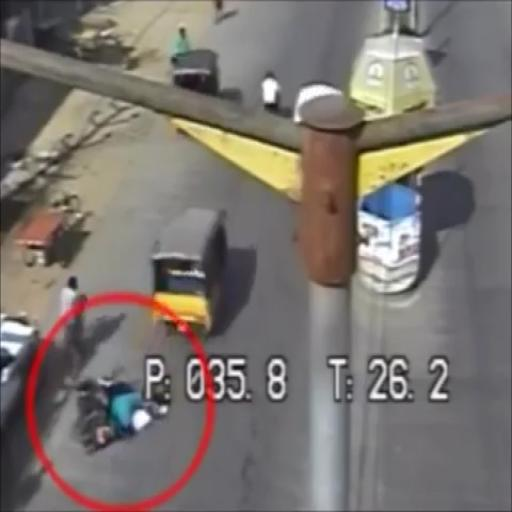小汽车: (148, 202, 233, 342)
自行车: (74, 373, 171, 452), (53, 278, 95, 386)
